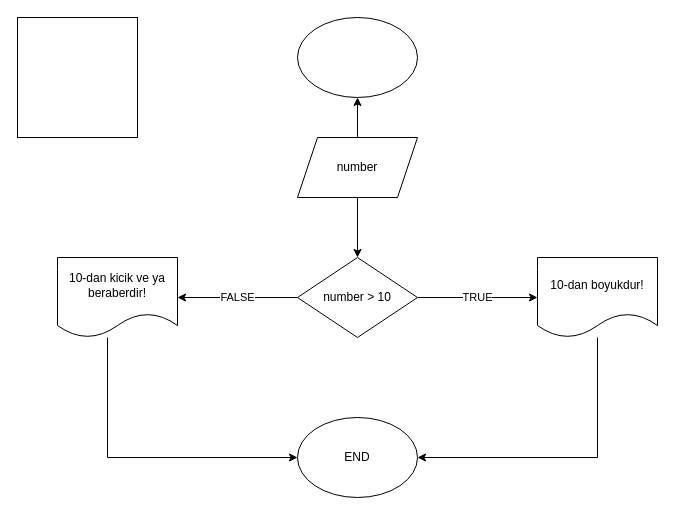
This 675x515 diagram has some shape labels left out. The box of each missing label's shape, as (x1, y1, x2, y2) in pixels:
10 ile muqayise.: (16, 16, 138, 138)
START: (296, 16, 418, 98)
